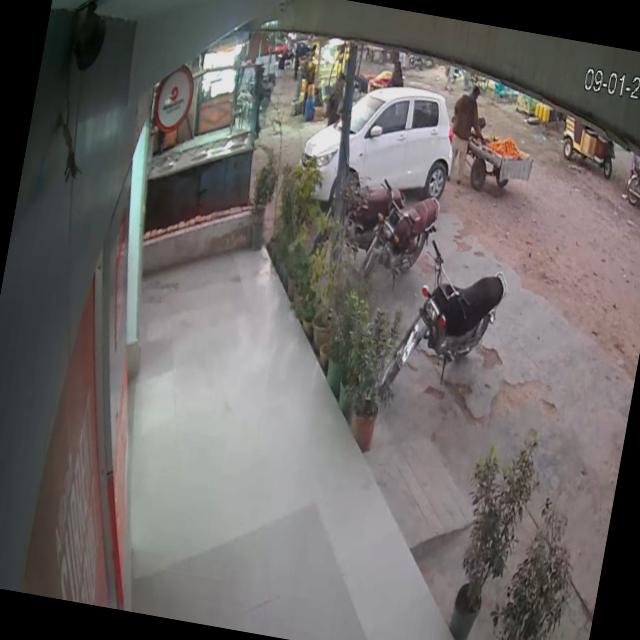Motorcycle: (377, 223, 523, 414), (364, 176, 450, 284), (621, 158, 640, 224)
